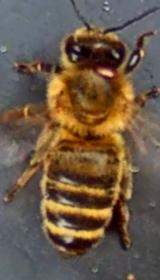varroa_mite: (86, 54, 128, 88)
